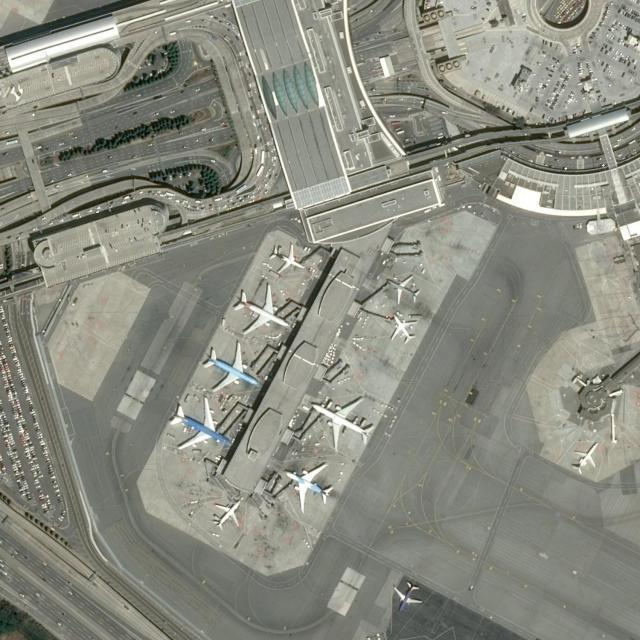Aircraft: (308, 393, 375, 451), (167, 394, 234, 451), (200, 336, 260, 392), (230, 283, 290, 335), (279, 461, 335, 512), (266, 237, 306, 274), (389, 578, 423, 613), (568, 440, 601, 474), (385, 312, 418, 345), (209, 496, 241, 530), (386, 273, 420, 303)
